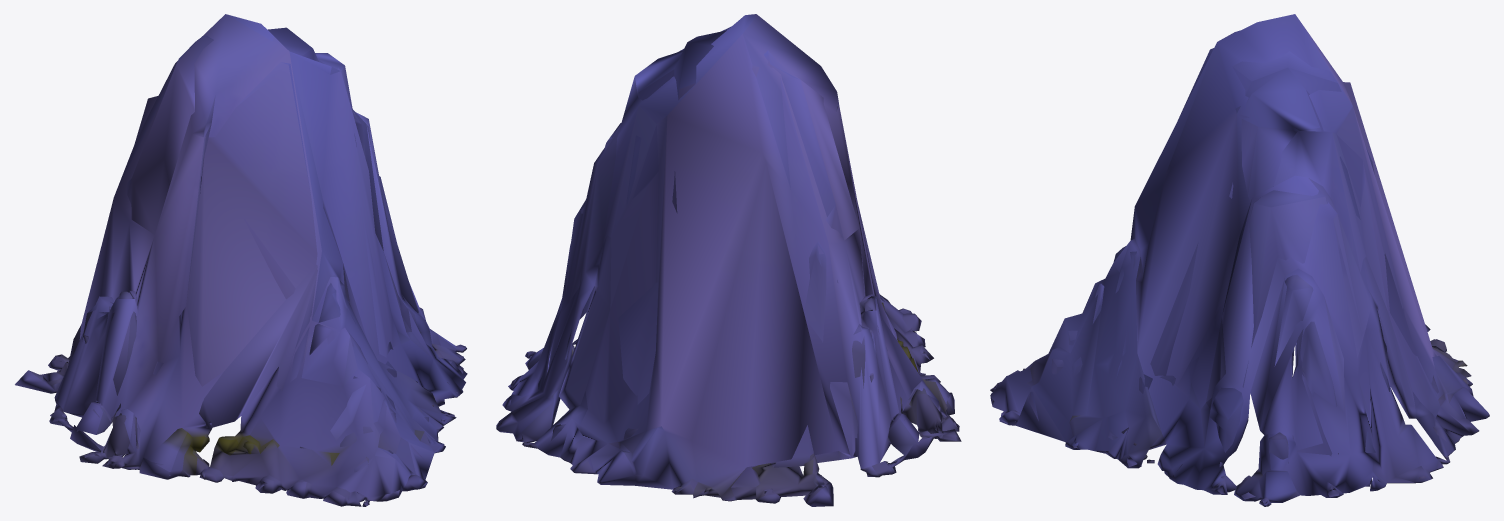
Rendered from model.progressive.glb.
3 renders of one model, left to right at view 1: azimuth 30°, elevation 25°; view 2: azimuth 150°, elevation 25°; view 3: azimuth 270°, elevation 25°, orthographic. The views are drawn at different scales.
Visible parts, largest first — view 1: Rock2; view 2: Rock2; view 3: Rock2.
Part boxes in pixels (x1,y1,x2,y2): Rock2: [15, 14, 467, 506]; Rock2: [496, 14, 961, 506]; Rock2: [990, 14, 1489, 506].
Size of the model in its own units: 1.79 by 1.6 by 1.89.
1 material, 1 textured.
